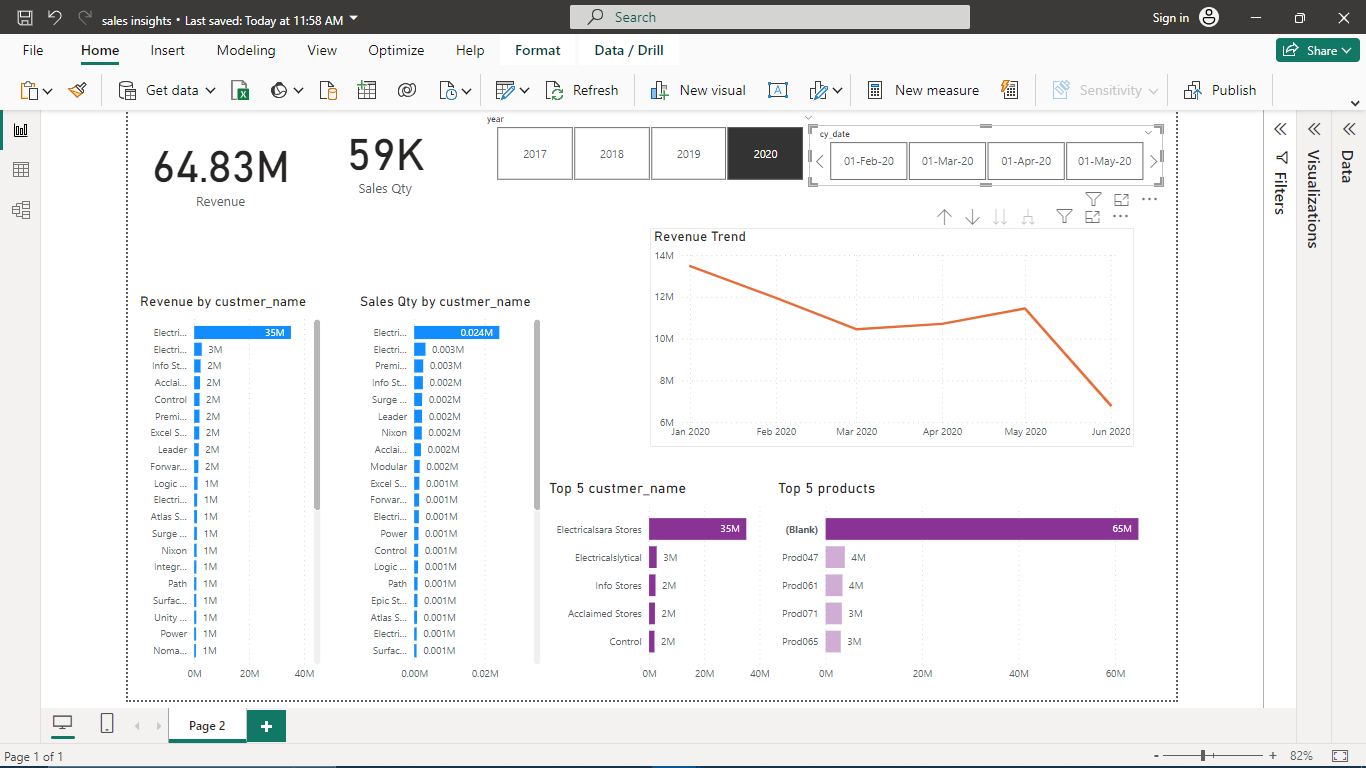

The dashboard page shown, as its layout file describes it:
{"tool":"powerbi","page":{"name":"Page 2","canvas":[1280,720],"ordinal":0},"visuals":[{"type":"card","fields":{"Values":["base measures.Revenue"]},"box":[10.1,0,206.6,144.5],"z":0},{"type":"card","fields":{"Values":["base measures.Sales Qty"]},"box":[216.7,0,193.2,114.2],"z":1000},{"type":"barChart","fields":{"Y":["base measures.Revenue"],"Category":["sales customers.custmer_name"]},"box":[10.1,223.4,230.1,482.1],"z":2000},{"type":"barChart","fields":{"Y":["base measures.Sales Qty"],"Category":["sales customers.custmer_name"]},"box":[278.8,223.4,230.1,482.1],"z":3000},{"type":"slicer","fields":{"Values":["sales date.year"]},"box":[425,0,423.3,92.4],"z":4000},{"type":"slicer","fields":{"Values":["sales date.cy_date"]},"box":[831.5,18.5,431.7,73.9],"z":5000},{"type":"barChart","title":"Top 5 products","fields":{"Y":["base measures.Revenue"],"Category":["sales products.product_code"]},"box":[787.8,450.2,492.2,255.3],"z":6000},{"type":"barChart","title":"Top 5 custmer_name","fields":{"Y":["base measures.Revenue"],"Category":["sales customers.custmer_name"]},"box":[509,450.2,278.8,255.3],"z":7000},{"type":"lineChart","title":"Revenue Trend","fields":{"Y":["base measures.Revenue"],"Category":["sales date.cy_date.Variation.Date Hierarchy.Year","sales date.cy_date.Variation.Date Hierarchy.Quarter","sales date.cy_date.Variation.Date Hierarchy.Month","sales date.cy_date.Variation.Date Hierarchy.Day"]},"box":[636.6,144.5,591.3,267.1],"z":8000}]}

Visuals, with their boxes on the page's 1280x720 design canvas (x1, y1, x2, y2). These are canvas units, not pixel positions in the 1366x768 screenshot, which may show the page scaled, cropped or inside an application window:
card - base measures.Revenue: x1=10, y1=0, x2=217, y2=144
card - base measures.Sales Qty: x1=217, y1=0, x2=410, y2=114
barChart - base measures.Revenue x sales customers.custmer_name: x1=10, y1=223, x2=240, y2=706
barChart - base measures.Sales Qty x sales customers.custmer_name: x1=279, y1=223, x2=509, y2=706
slicer - sales date.year: x1=425, y1=0, x2=848, y2=92
slicer - sales date.cy_date: x1=832, y1=18, x2=1263, y2=92
"Top 5 products" barChart: x1=788, y1=450, x2=1280, y2=706
"Top 5 custmer_name" barChart: x1=509, y1=450, x2=788, y2=706
"Revenue Trend" lineChart: x1=637, y1=144, x2=1228, y2=412
